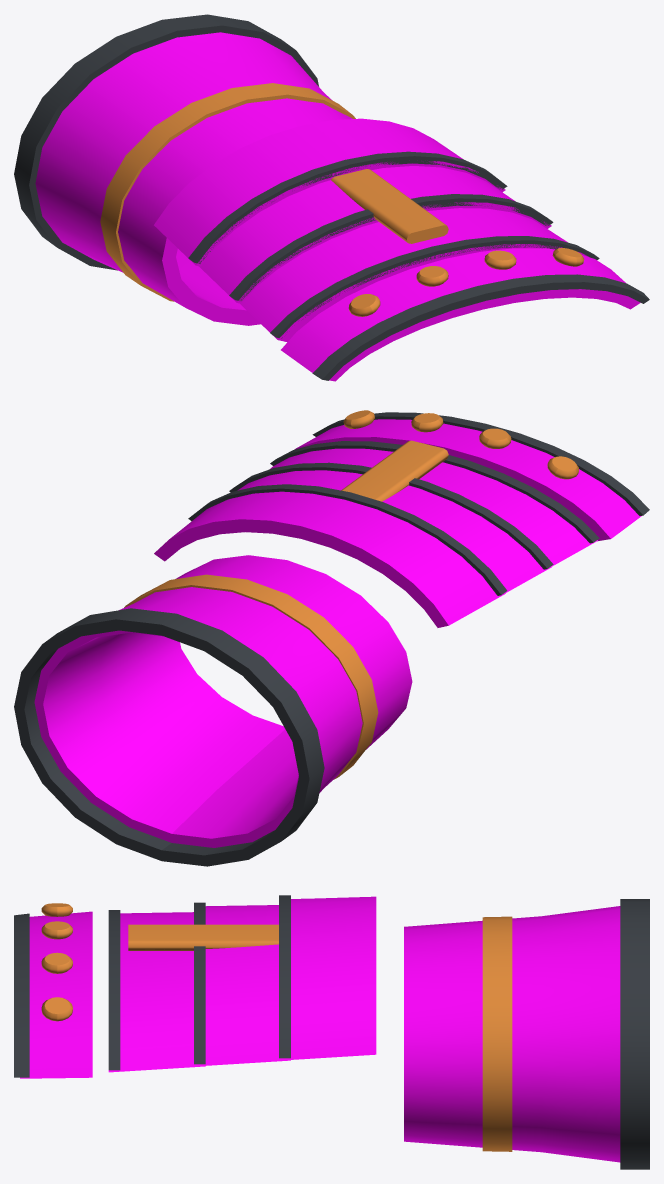
File: gantelet_armure3.glb
3 views of the same model, one above another, from view 1: azimuth 30°, elevation 25°; view 2: azimuth 150°, elevation 25°; view 3: azimuth 270°, elevation 25° (orthographic).
Parts seen in each view (by area): view 1: main__gantelet_teinte, manchette__gantelet_teinte, main__gantelet_teinte_sombre, manchette__gantelet_teinte_sombre, manchette__gantelet_composite_bande, main__gantelet_composite_bande; view 2: manchette__gantelet_teinte, main__gantelet_teinte, manchette__gantelet_teinte_sombre, main__gantelet_teinte_sombre, manchette__gantelet_composite_bande, main__gantelet_composite_bande; view 3: manchette__gantelet_teinte, main__gantelet_teinte, main__gantelet_teinte_sombre, manchette__gantelet_teinte_sombre, manchette__gantelet_composite_bande, main__gantelet_composite_bande.
Boxes of the visible parts, box(x1,y1,x2,y2) form: main__gantelet_teinte: box(154, 118, 640, 381); manchette__gantelet_teinte: box(35, 32, 352, 325); main__gantelet_teinte_sombre: box(188, 151, 649, 380); manchette__gantelet_teinte_sombre: box(14, 14, 318, 270); manchette__gantelet_composite_bande: box(100, 83, 355, 301); main__gantelet_composite_bande: box(331, 169, 584, 316); manchette__gantelet_teinte: box(34, 555, 412, 847); main__gantelet_teinte: box(154, 419, 641, 627); manchette__gantelet_teinte_sombre: box(14, 608, 324, 866); main__gantelet_teinte_sombre: box(188, 412, 649, 595); manchette__gantelet_composite_bande: box(124, 574, 378, 779); main__gantelet_composite_bande: box(341, 410, 578, 501); manchette__gantelet_teinte: box(404, 906, 620, 1162); main__gantelet_teinte: box(20, 896, 376, 1078); main__gantelet_teinte_sombre: box(14, 895, 290, 1077); manchette__gantelet_teinte_sombre: box(620, 899, 649, 1169); manchette__gantelet_composite_bande: box(482, 916, 512, 1151); main__gantelet_composite_bande: box(41, 903, 278, 1021).
Size of the model in its own units: 0.0952 by 0.065 by 0.1615.
